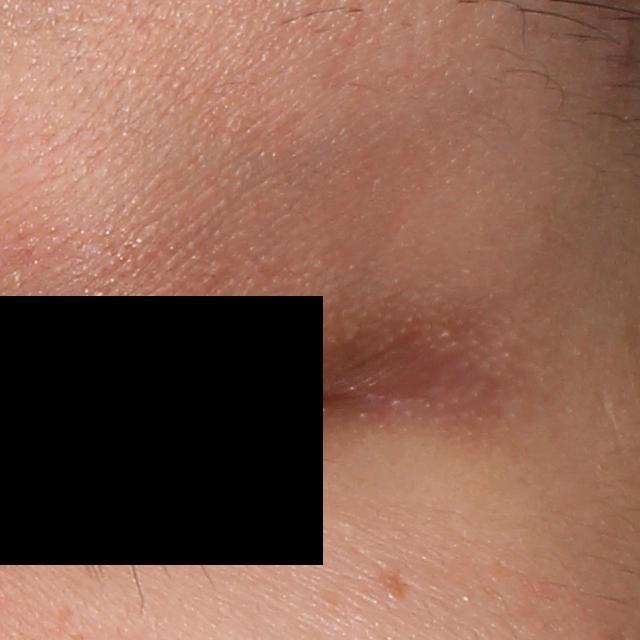melasma: (373, 561, 413, 603)
other: (192, 259, 539, 462)
